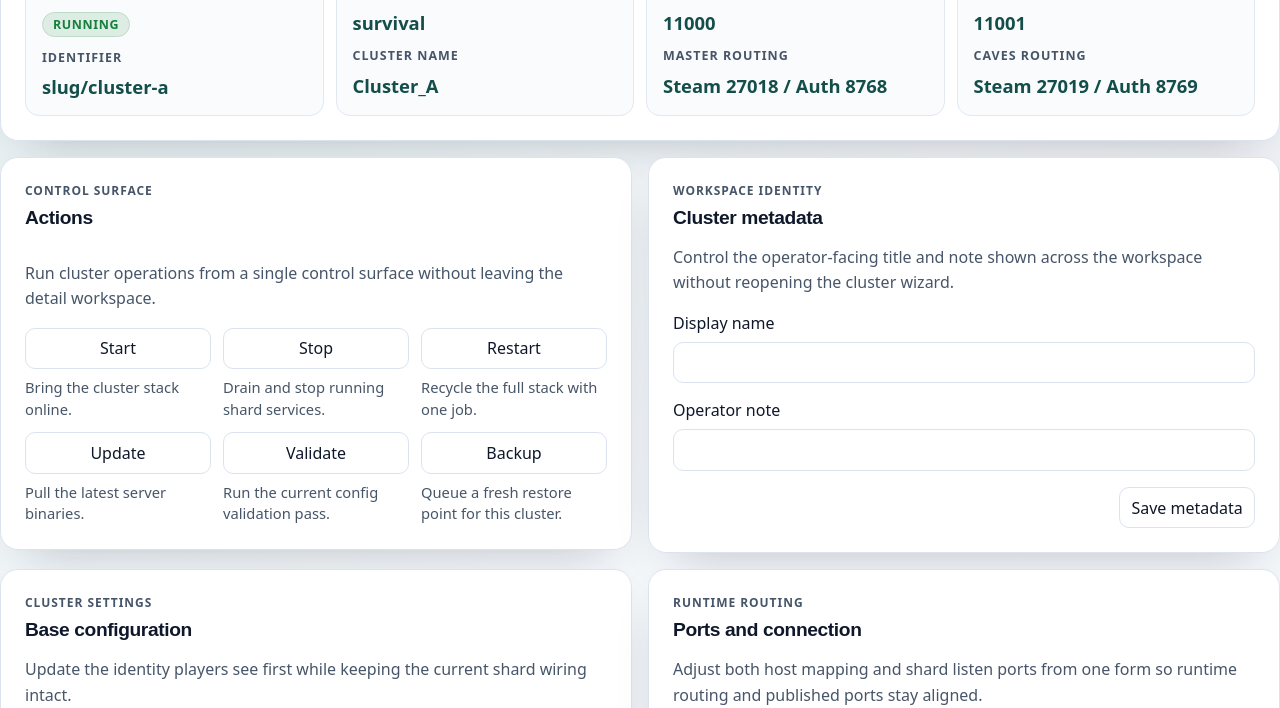
ClusterDetailPage › disables lifecycle buttons while an action is running
(page scrolled)
Click the button "Start".
click(118, 348)  # box [25,328,211,369]
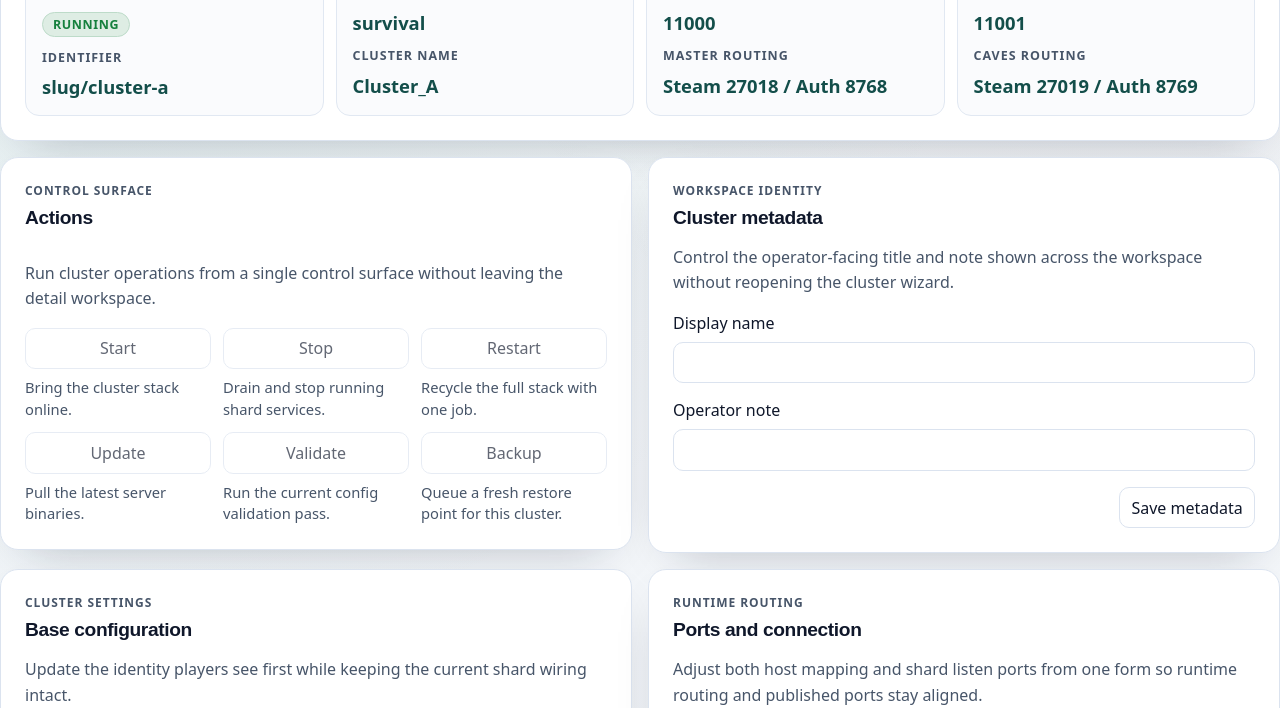
Result: the button "Start" is disabled at [25,328,211,369]
Result: the button "Stop" is disabled at [223,328,409,369]
Result: the button "Backup" is disabled at [421,432,607,474]
